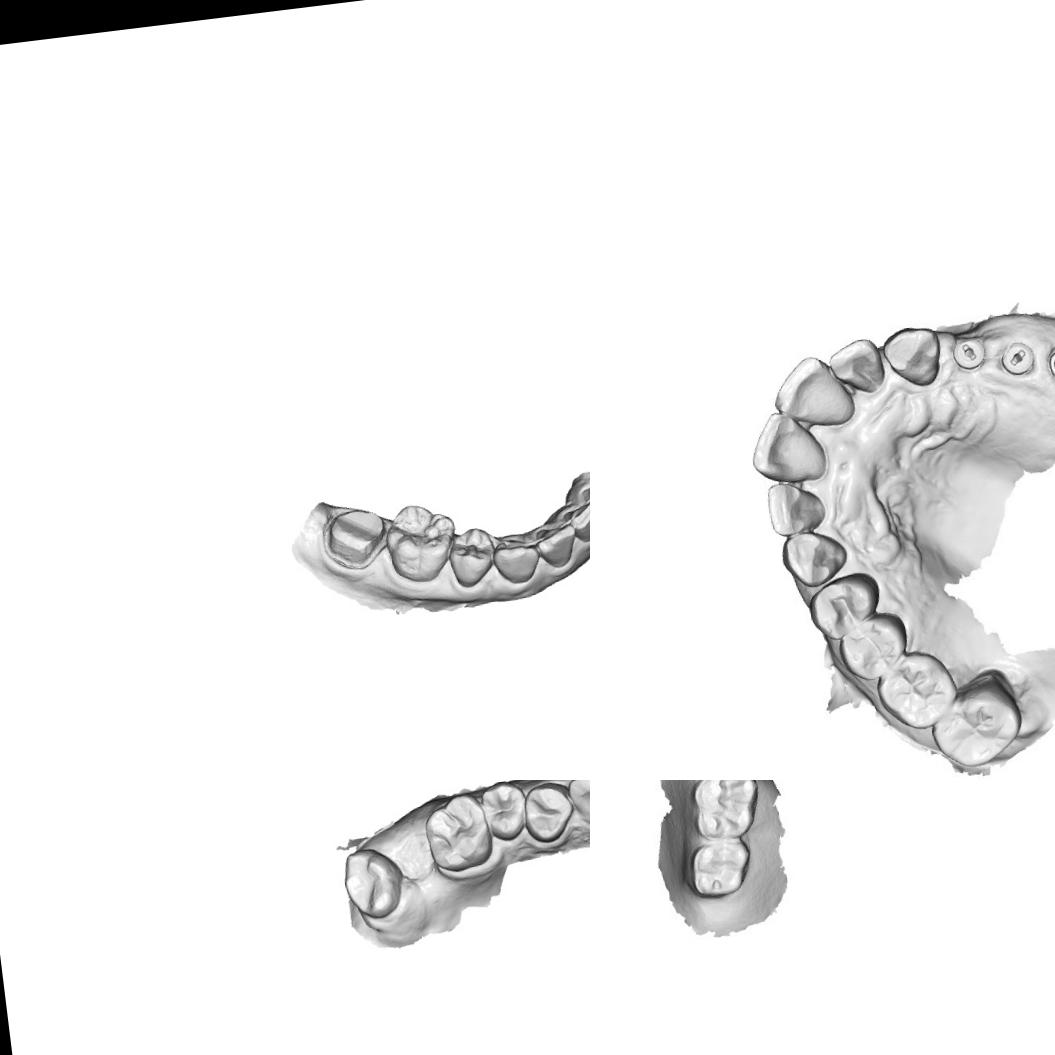canine: (882, 324, 948, 397), (776, 528, 851, 592), (490, 533, 544, 587), (564, 780, 590, 826)
crown: (320, 504, 391, 572)
implant_minus: (996, 340, 1039, 386), (951, 333, 992, 374), (1042, 340, 1055, 389)
incisor: (746, 410, 830, 484), (770, 355, 853, 427), (758, 474, 829, 536), (831, 337, 891, 398), (532, 520, 582, 570), (557, 497, 590, 545), (580, 469, 590, 517)
molar: (928, 679, 1027, 772), (873, 649, 961, 734), (381, 498, 462, 586), (420, 790, 495, 876), (340, 844, 408, 922), (683, 836, 754, 902), (689, 780, 758, 838)
premolar: (804, 569, 889, 644), (834, 611, 910, 684), (520, 780, 577, 845), (444, 524, 500, 590), (478, 780, 531, 844)
